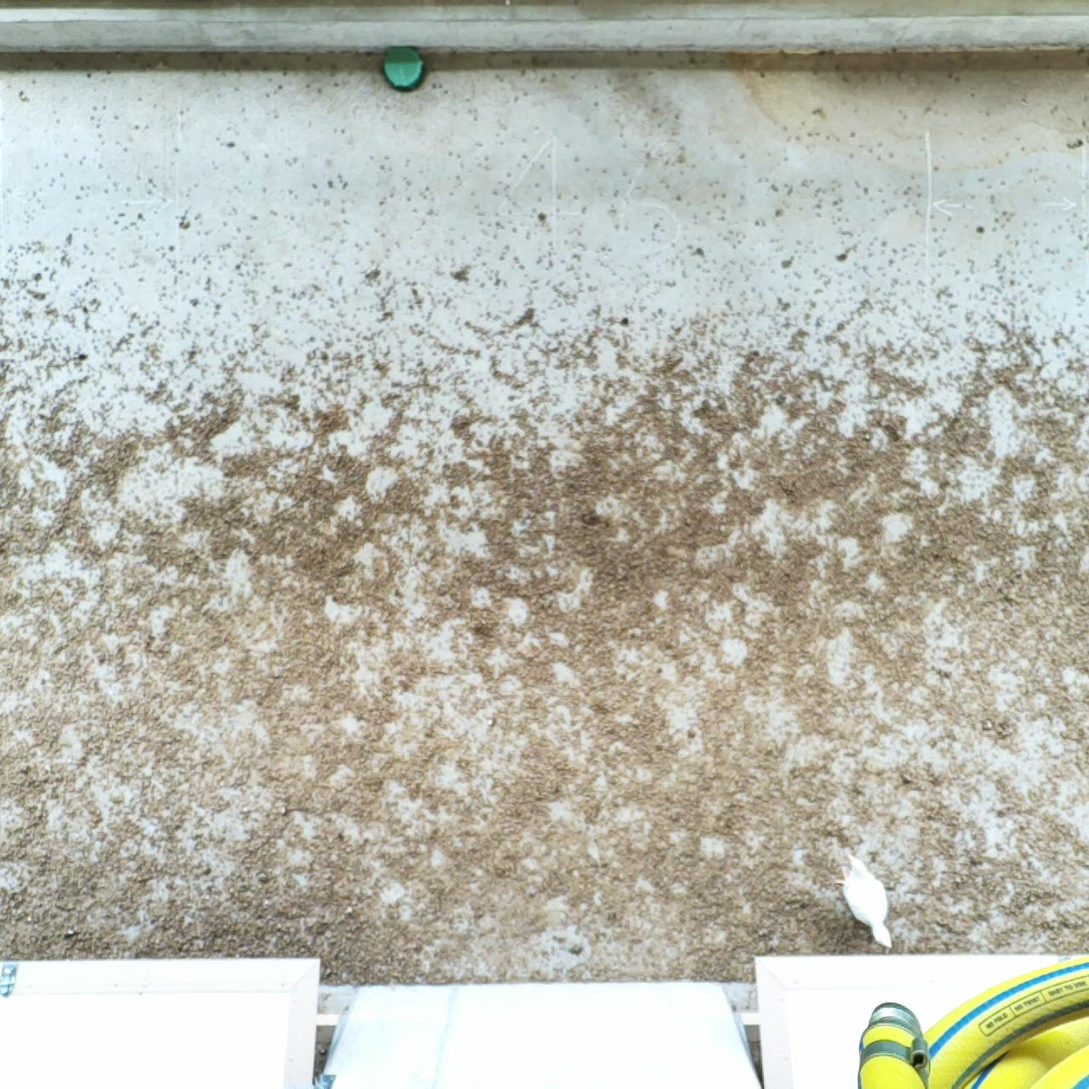chicken: (831, 847, 900, 955)
